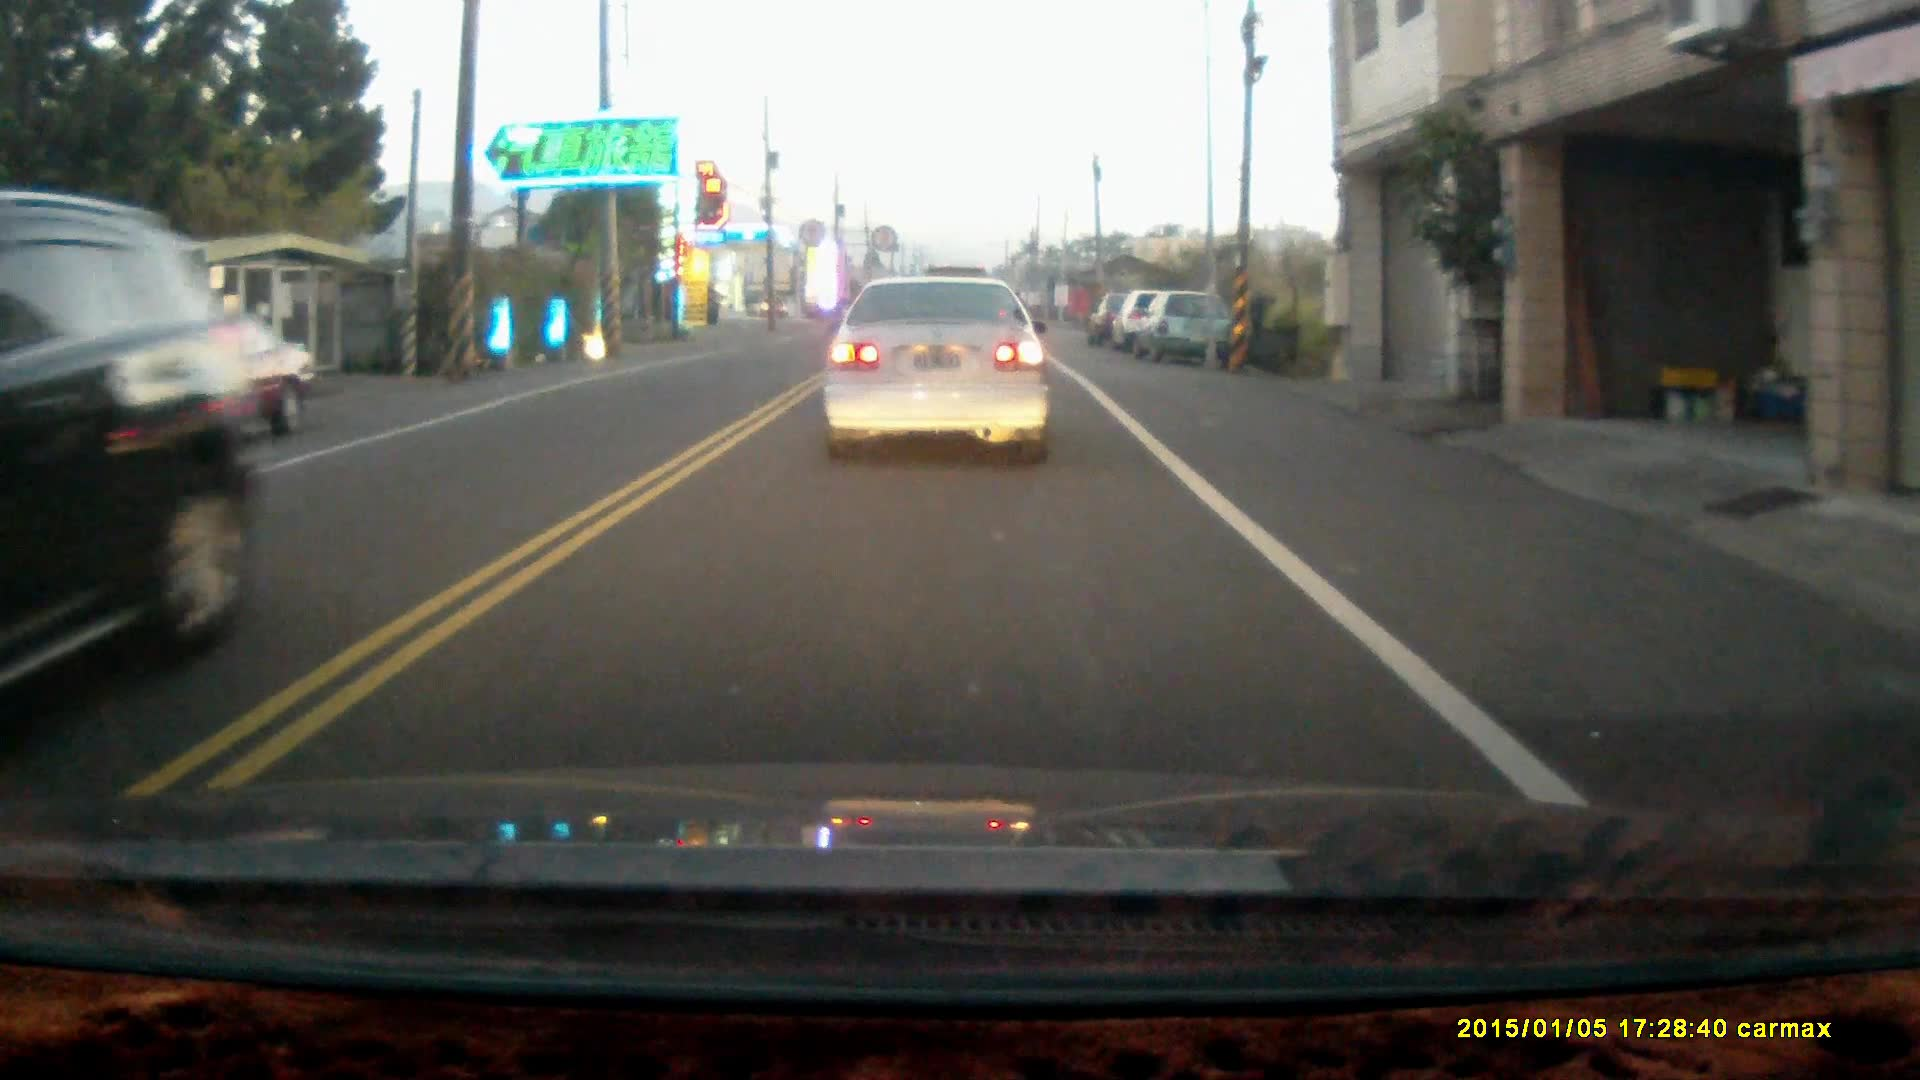vehicle: (1, 191, 261, 717), (819, 274, 1048, 464), (1131, 291, 1232, 365), (1116, 293, 1199, 355)
